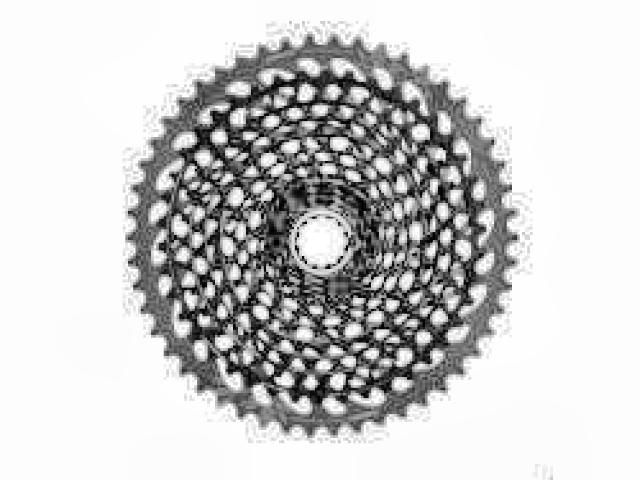cassette: (122, 31, 519, 440)
